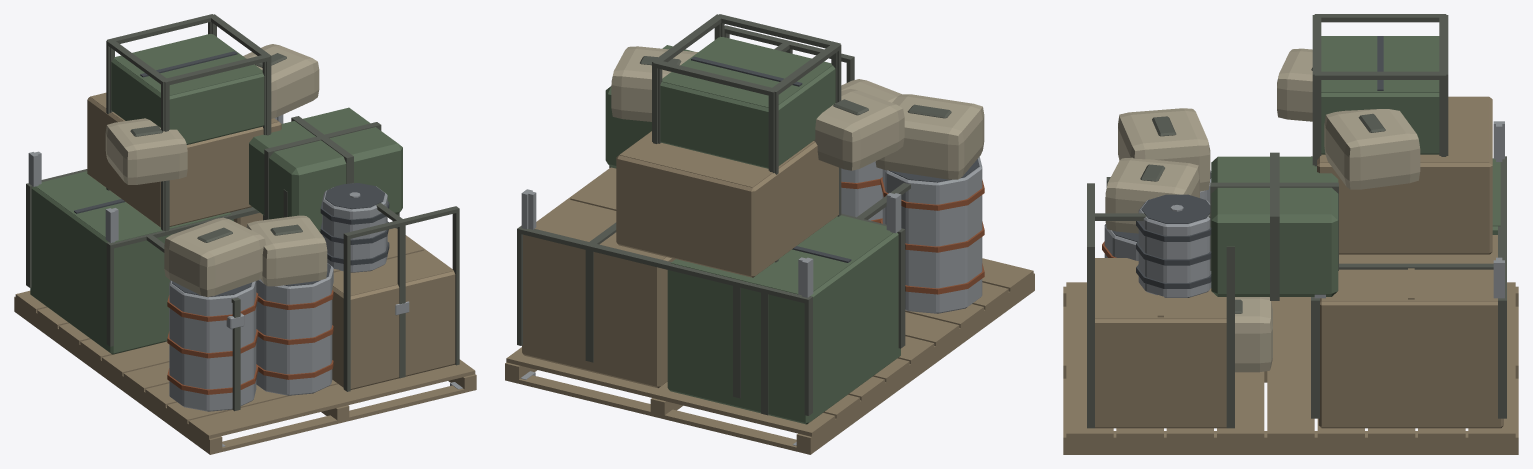
File: cargo_stack_large_olive.glb
3 views of the same model, side by side, from view 1: azimuth 30°, elevation 25°; view 2: azimuth 150°, elevation 25°; view 3: azimuth 270°, elevation 25° (orthographic). The views are drawn at different scales.
Visible parts, largest first — view 1: StackLarge_Body; view 2: StackLarge_Body; view 3: StackLarge_Body.
Part boxes in pixels (x1,y1,x2,y2): StackLarge_Body: (14,14,476,454); StackLarge_Body: (505,14,1034,454); StackLarge_Body: (1063,14,1518,454).
Size of the model in its own units: 2.2 by 2.2 by 2.8.
